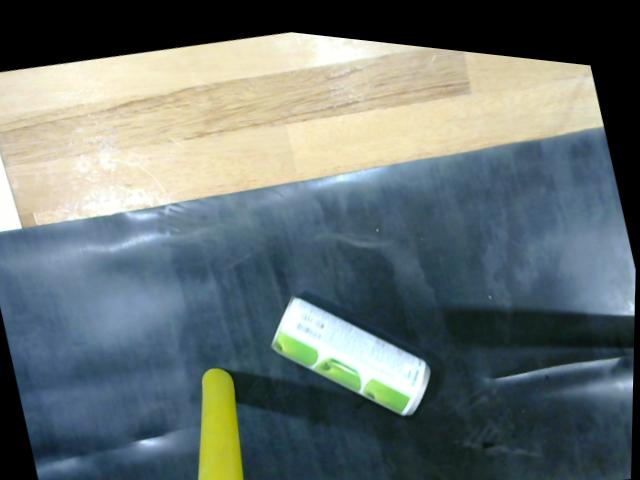can: (265, 281, 436, 413)
